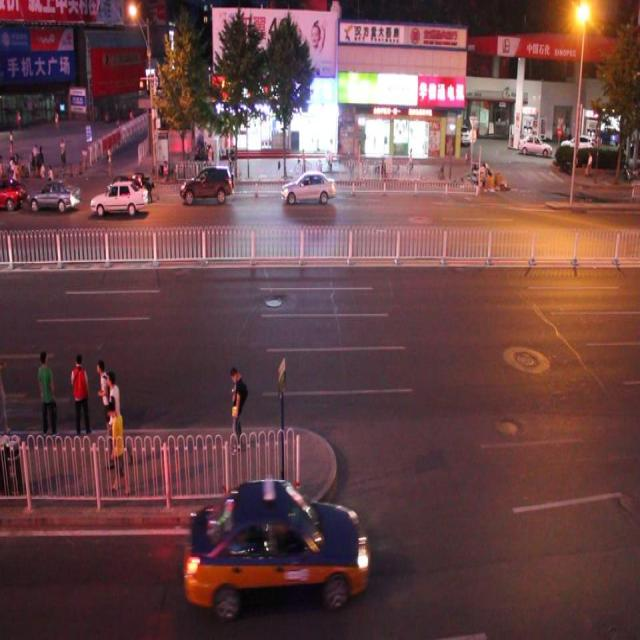car: (184, 475, 368, 613), (177, 163, 233, 207), (280, 167, 336, 210), (29, 176, 81, 217), (91, 181, 147, 217), (101, 180, 145, 223)
